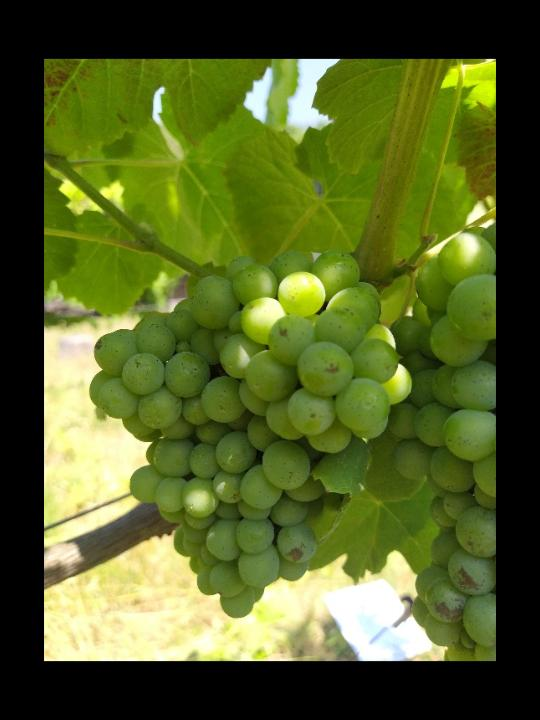grape: (88, 248, 416, 620)
